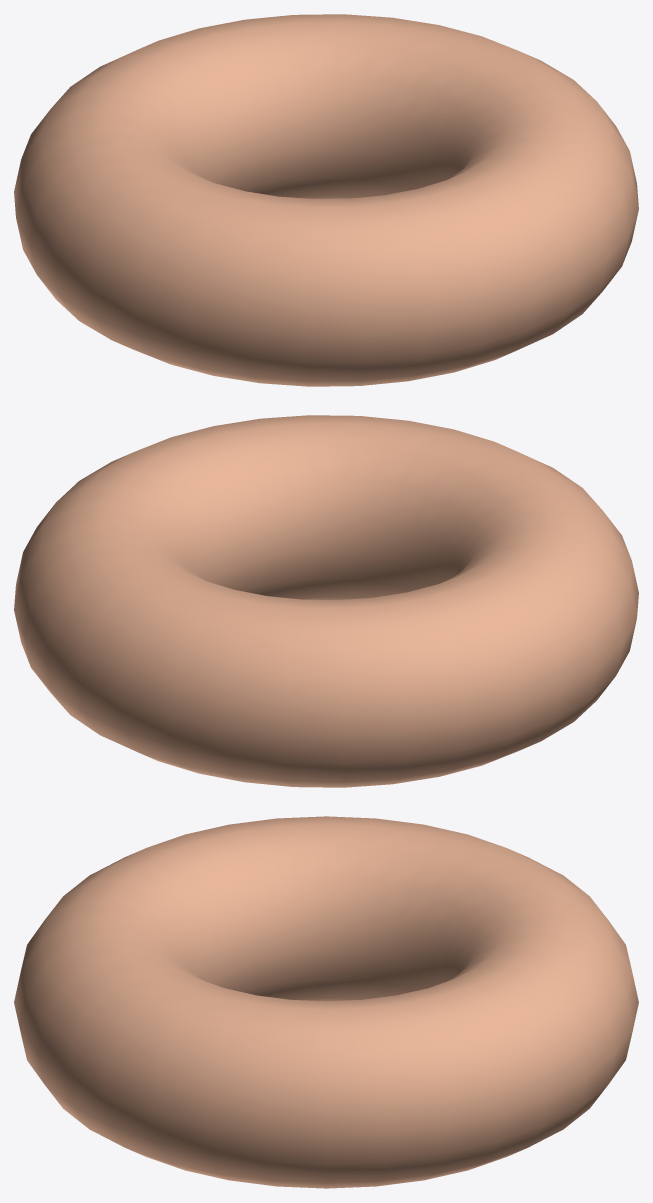
File: ring-plain.glb
3 renders of one model, top to bottom at view 1: azimuth 30°, elevation 25°; view 2: azimuth 150°, elevation 25°; view 3: azimuth 270°, elevation 25°, orthographic.
Visible parts, largest first — view 1: ring; view 2: ring; view 3: ring.
Part boxes in pixels (<box>): ring: <box>14,14,638,386</box>; ring: <box>14,415,638,787</box>; ring: <box>14,816,638,1188</box>.
Size of the model in its own units: 1 by 0.3 by 1.
